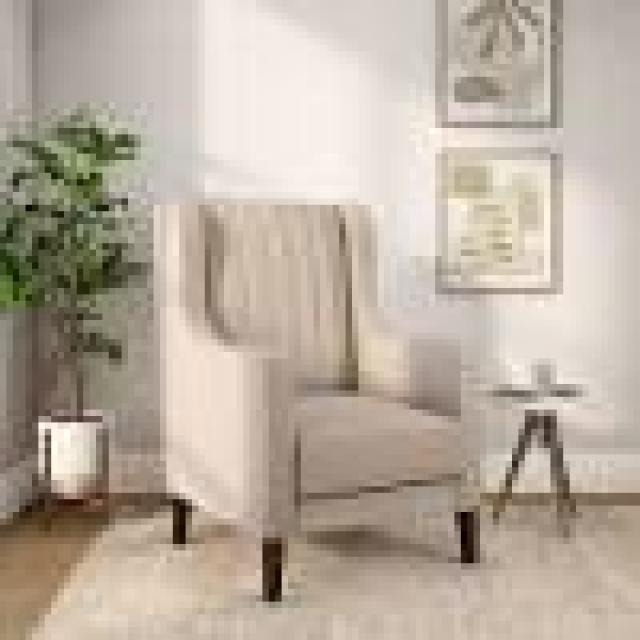chair: (122, 158, 501, 615)
